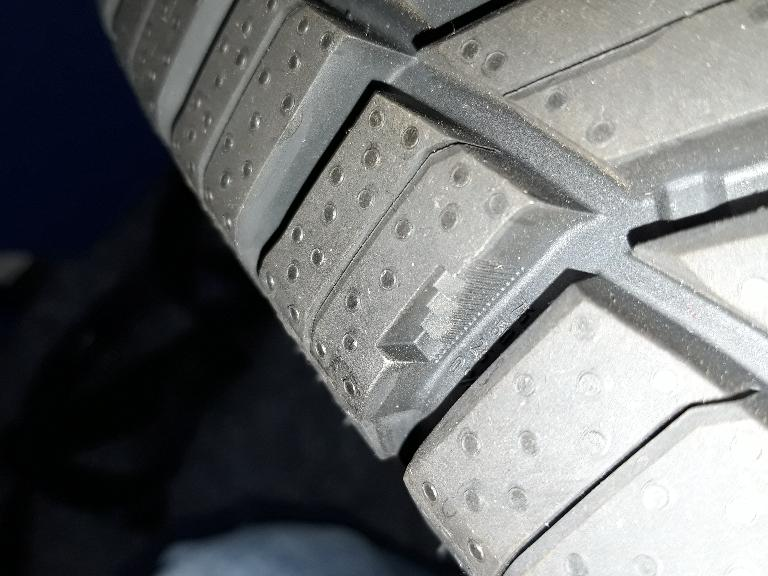temoin:100: (373, 252, 527, 369)
